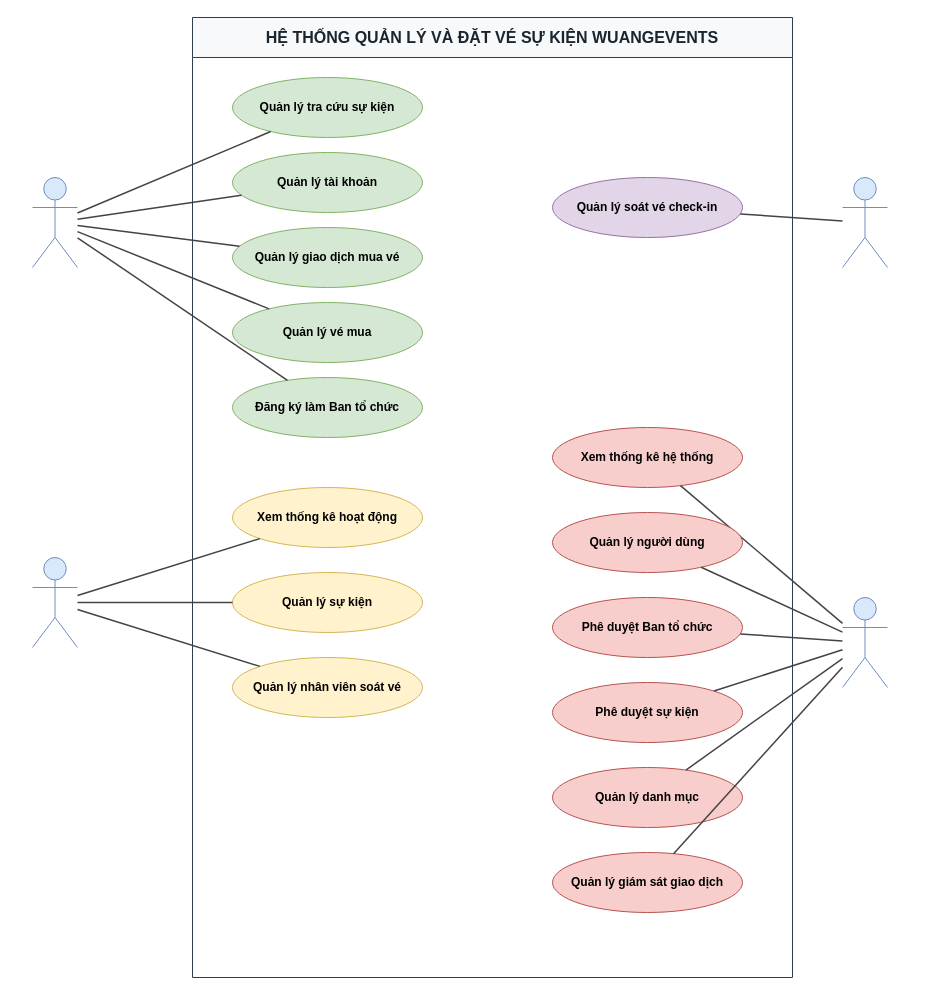
This 938x995 diagram has some shape labels left out. The shapes that lost their labels are listed below. From the top down, each one's box as (x1, y1, x2, y2) in pixels, then its label:
(32, 176, 78, 268): Khách hàng
(842, 176, 888, 268): Nhân viên soát vé
(32, 556, 78, 648): Ban tổ chức
(842, 596, 888, 688): Quản trị viên
